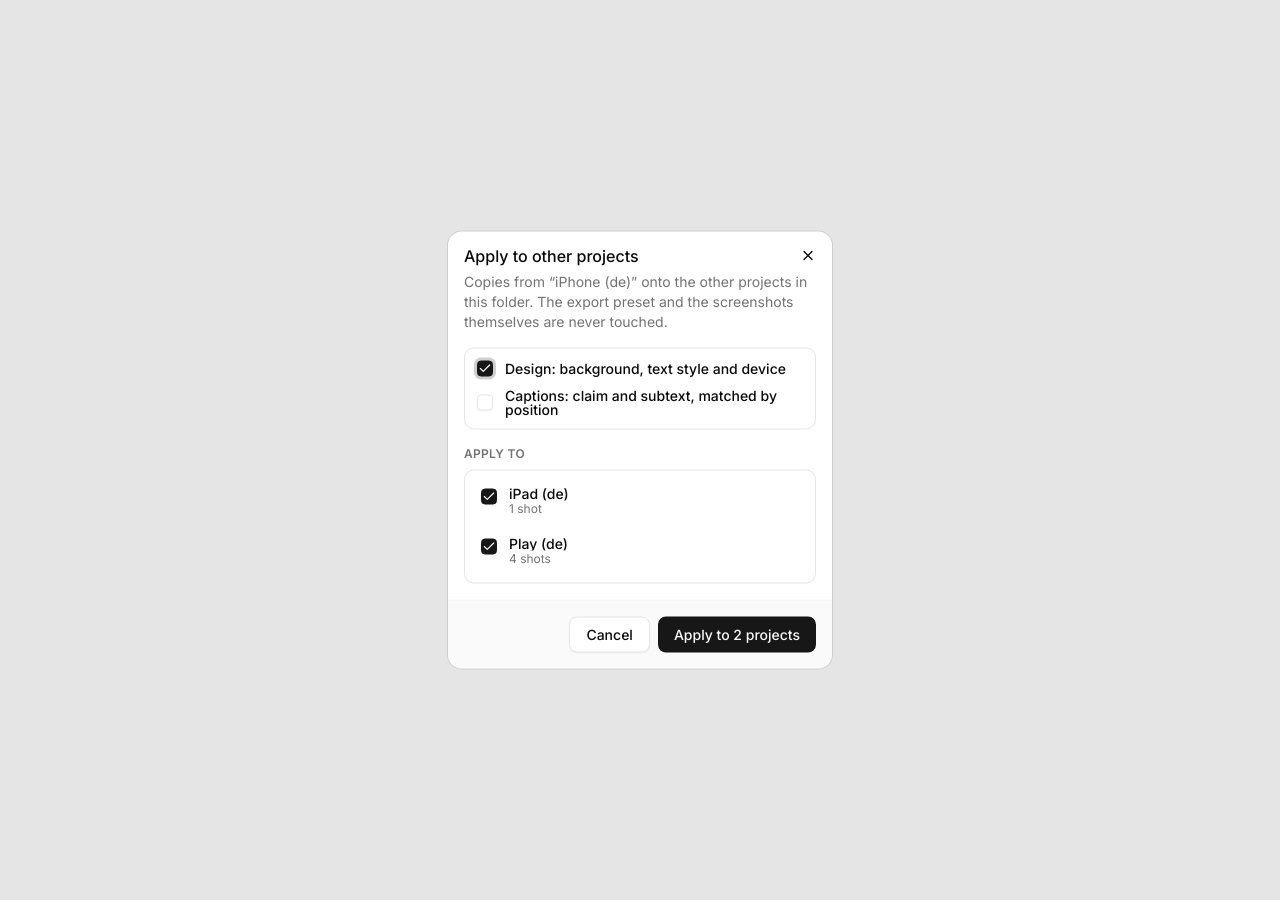
Scenario: ApplyToSiblingsDialog › shows shot counts until captions are turned on
Expected: the text "1 shot" is shown, [509,500,542,516]
Expected: the text "4 shots" is shown, [509,550,551,566]
Click the checkbox "Captions: claim and subtext, matched by position": (640, 402) [477,388,803,416]
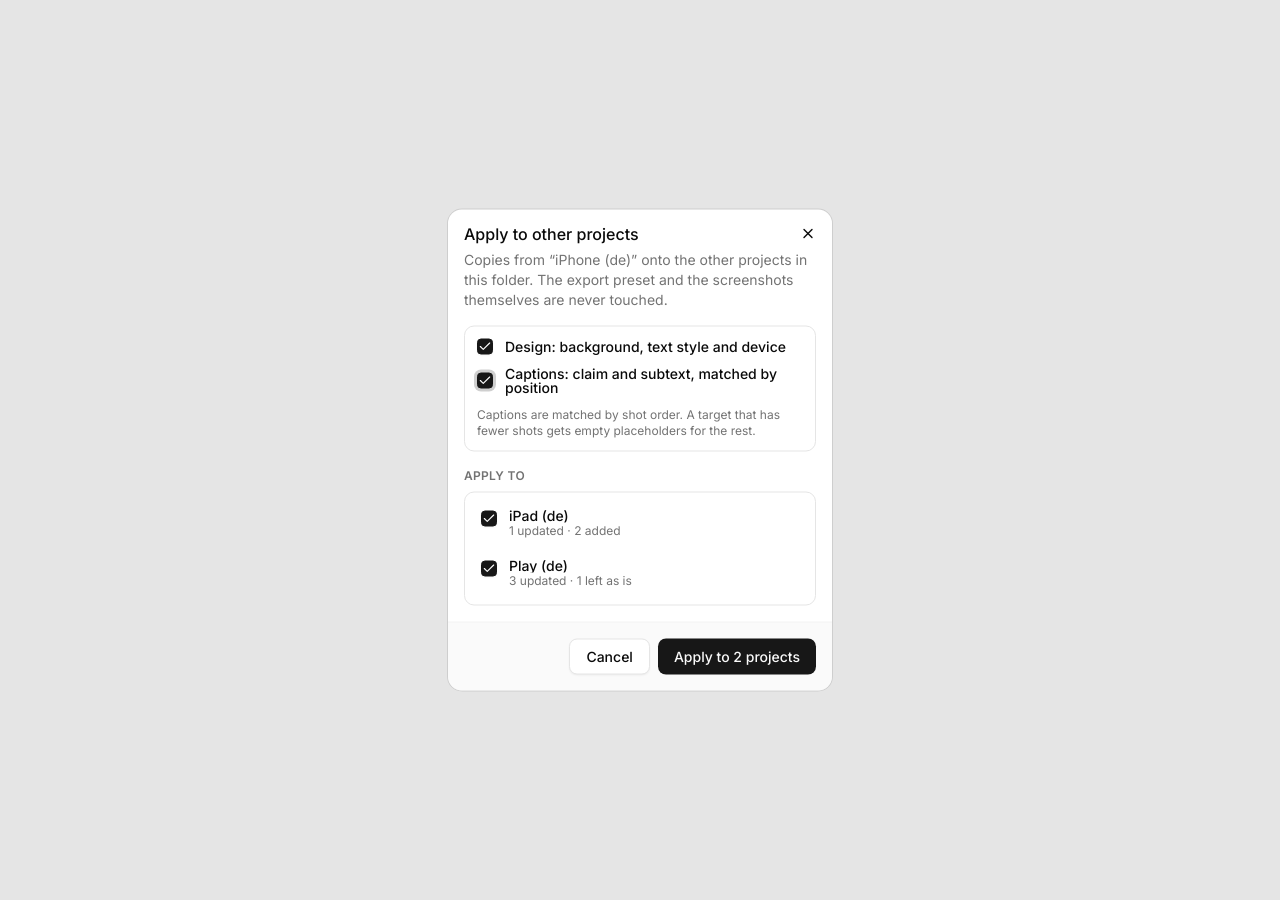
Expected: the text "1 updated · 2 added" is shown, [509,522,621,538]
Expected: the text "3 updated · 1 left as is" is shown, [509,572,632,588]
